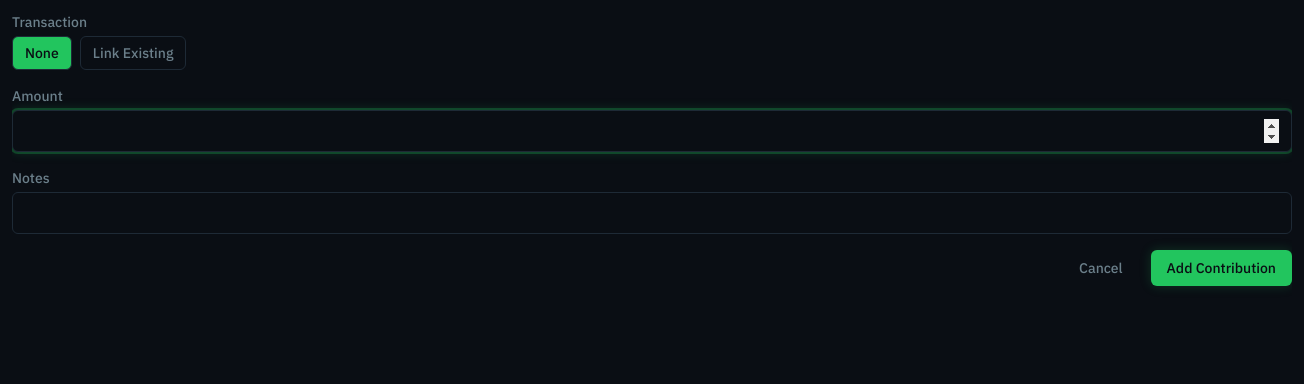
Test case: ContributeForm › auto-fills amount when transaction selected and amount is empty
Click the button "Link Existing". click: (133, 53)
box: top-left (80, 36), bottom-right (186, 70)
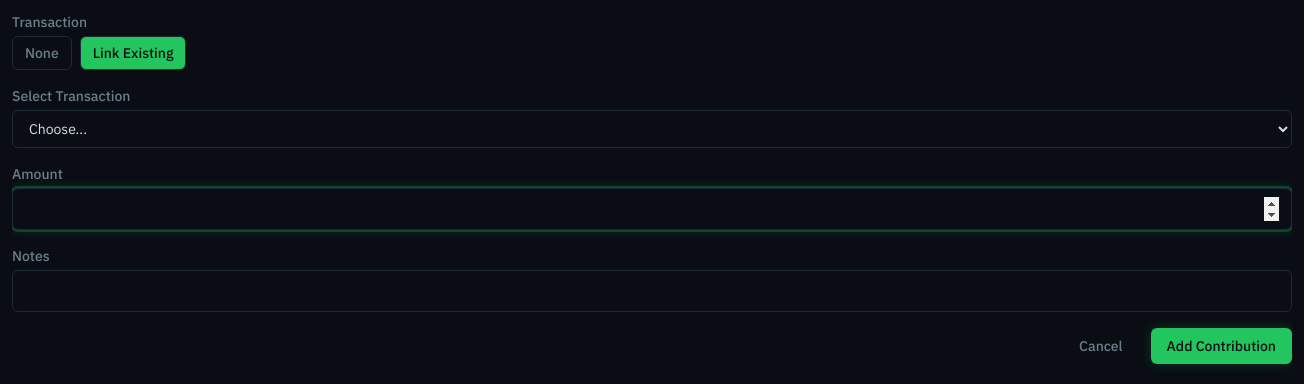
Select "Mar 1, 2026 - savings - $500.00" in the dropdown labelled "Select Transaction". click: (652, 129)
box: top-left (12, 110), bottom-right (1292, 148)
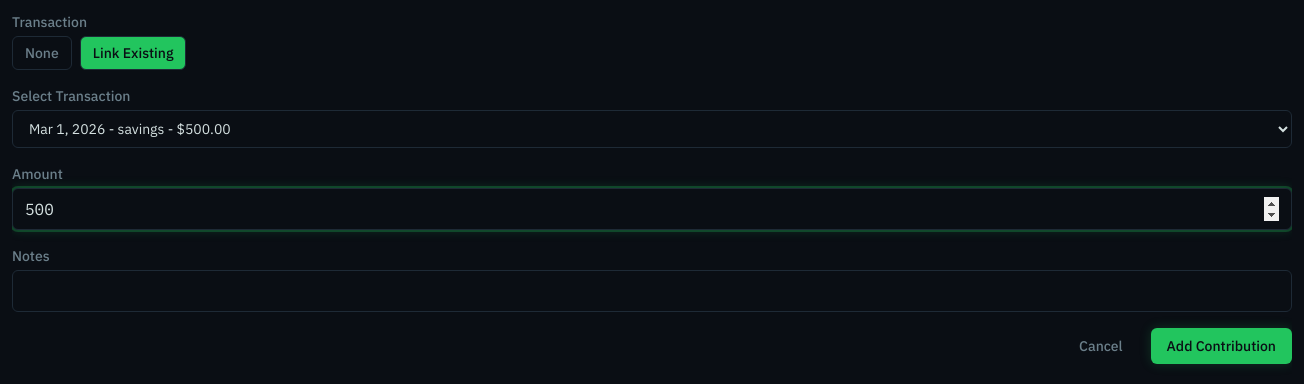
Now the number field labelled "Amount" holds "500", box top-left (12, 188), bottom-right (1292, 230)
